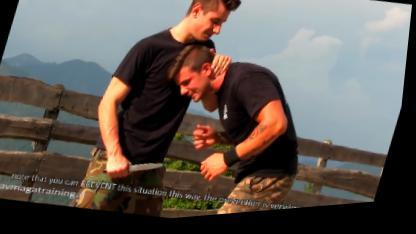knife: (102, 151, 174, 190)
